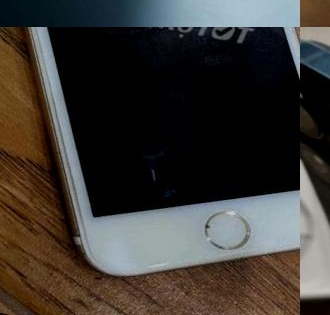scratch: (0, 32, 112, 215), (201, 221, 223, 232)
